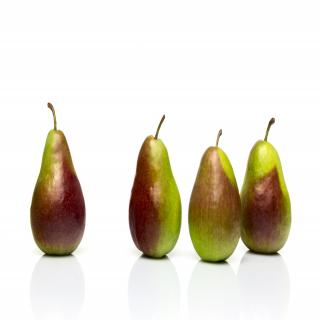Pear: (29, 129, 87, 258), (128, 134, 182, 258), (187, 146, 244, 263), (238, 138, 292, 254)
